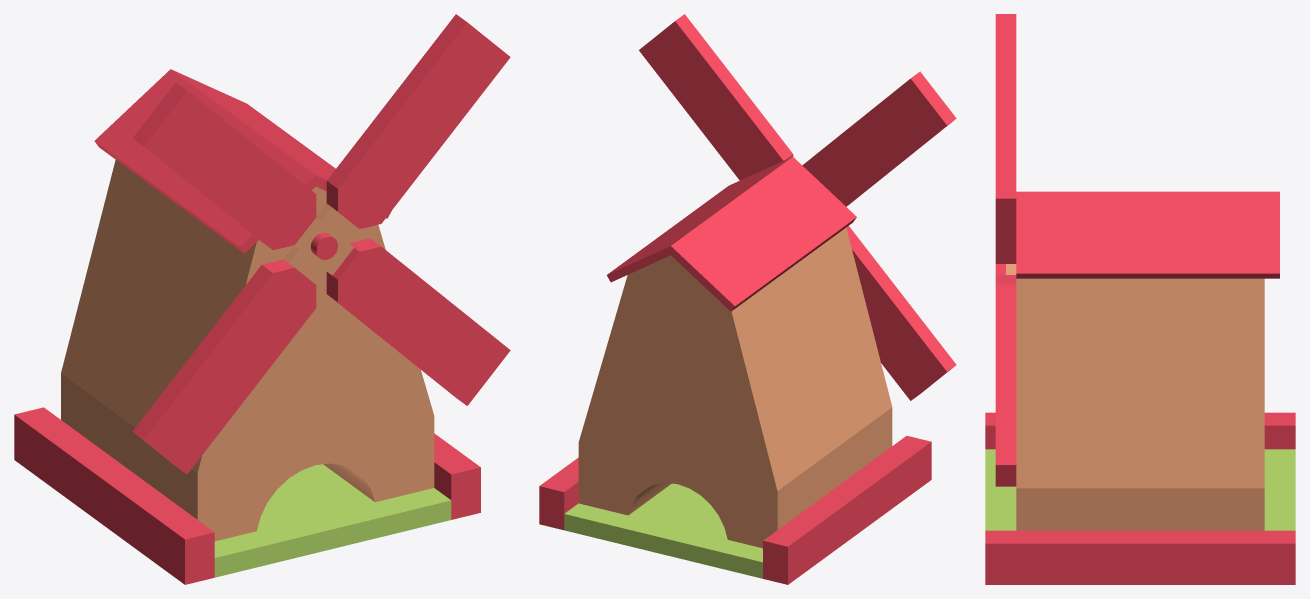
File: windmill.glb
3 views of the same model, side by side, from view 1: azimuth 30°, elevation 25°; view 2: azimuth 150°, elevation 25°; view 3: azimuth 270°, elevation 25° (orthographic). The views are drawn at different scales.
Visible parts, largest first — view 1: windmill, blades; view 2: windmill, blades; view 3: windmill, blades.
Boxes of the visible parts, x1,y1,x2,y2 form: windmill: (14,69,480,584); blades: (132,14,510,474); windmill: (539,156,931,584); blades: (639,14,956,400); windmill: (985,191,1295,584); blades: (995,14,1016,486).
Bounding box in the file's own units: 1.24 × 1.58 × 0.9999.
